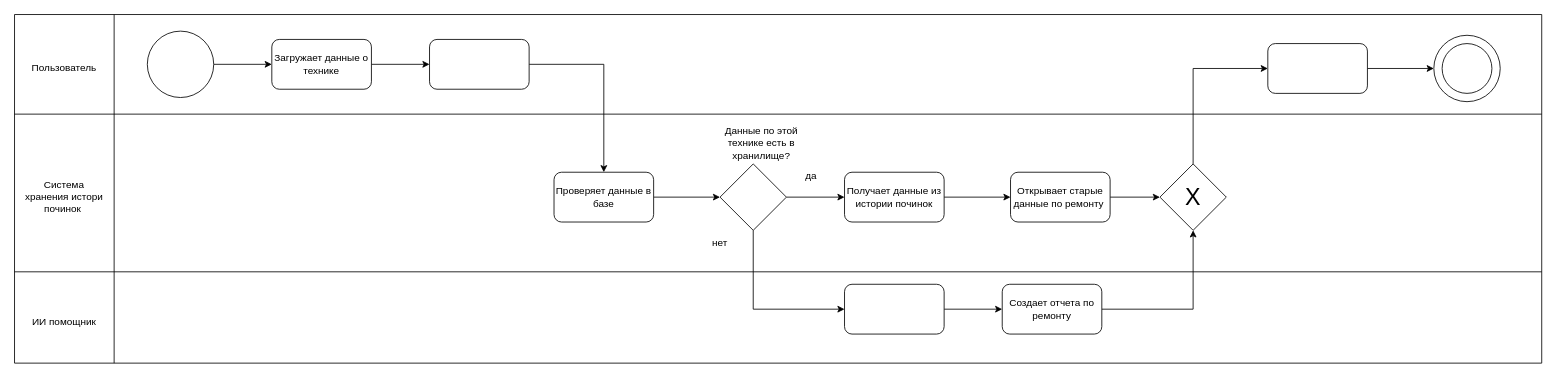
Image size: 1557x378. Some labels were removed from this diagram. The shapes that lost their labels are listed below. From the top down, each one's centre as x and y in pixels, then its label:
(479,64): Добавляет описание поломки
(1317,68): Получает отчет по ремонту
(894,308): Генерирует ответ по данным модели
